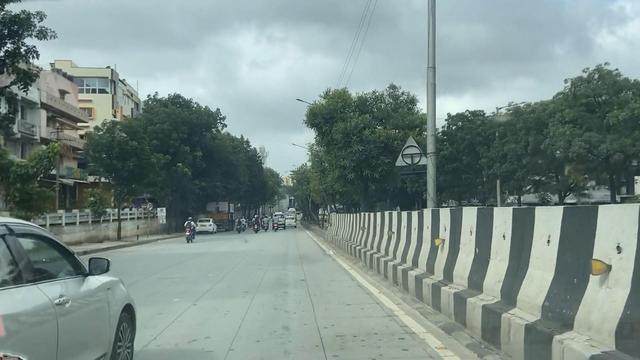LMV: (0, 209, 138, 360)
